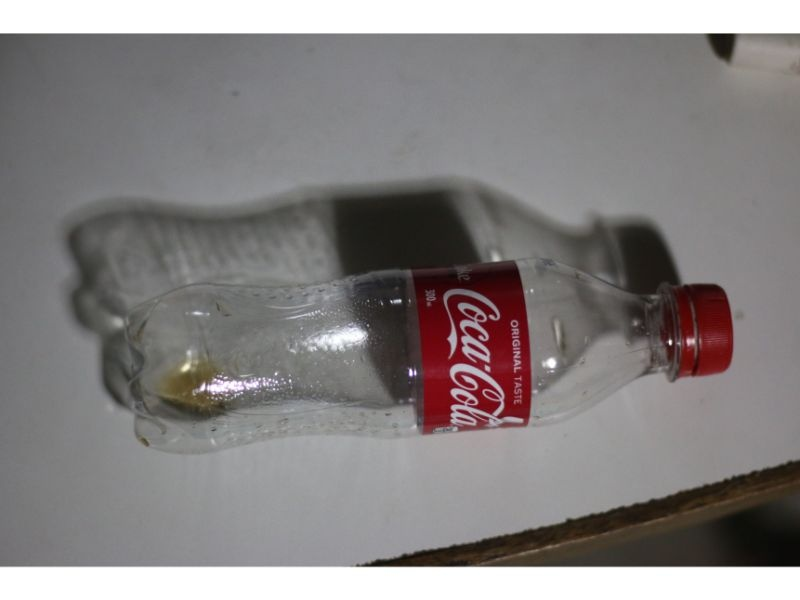PET #1: (113, 252, 740, 458)
